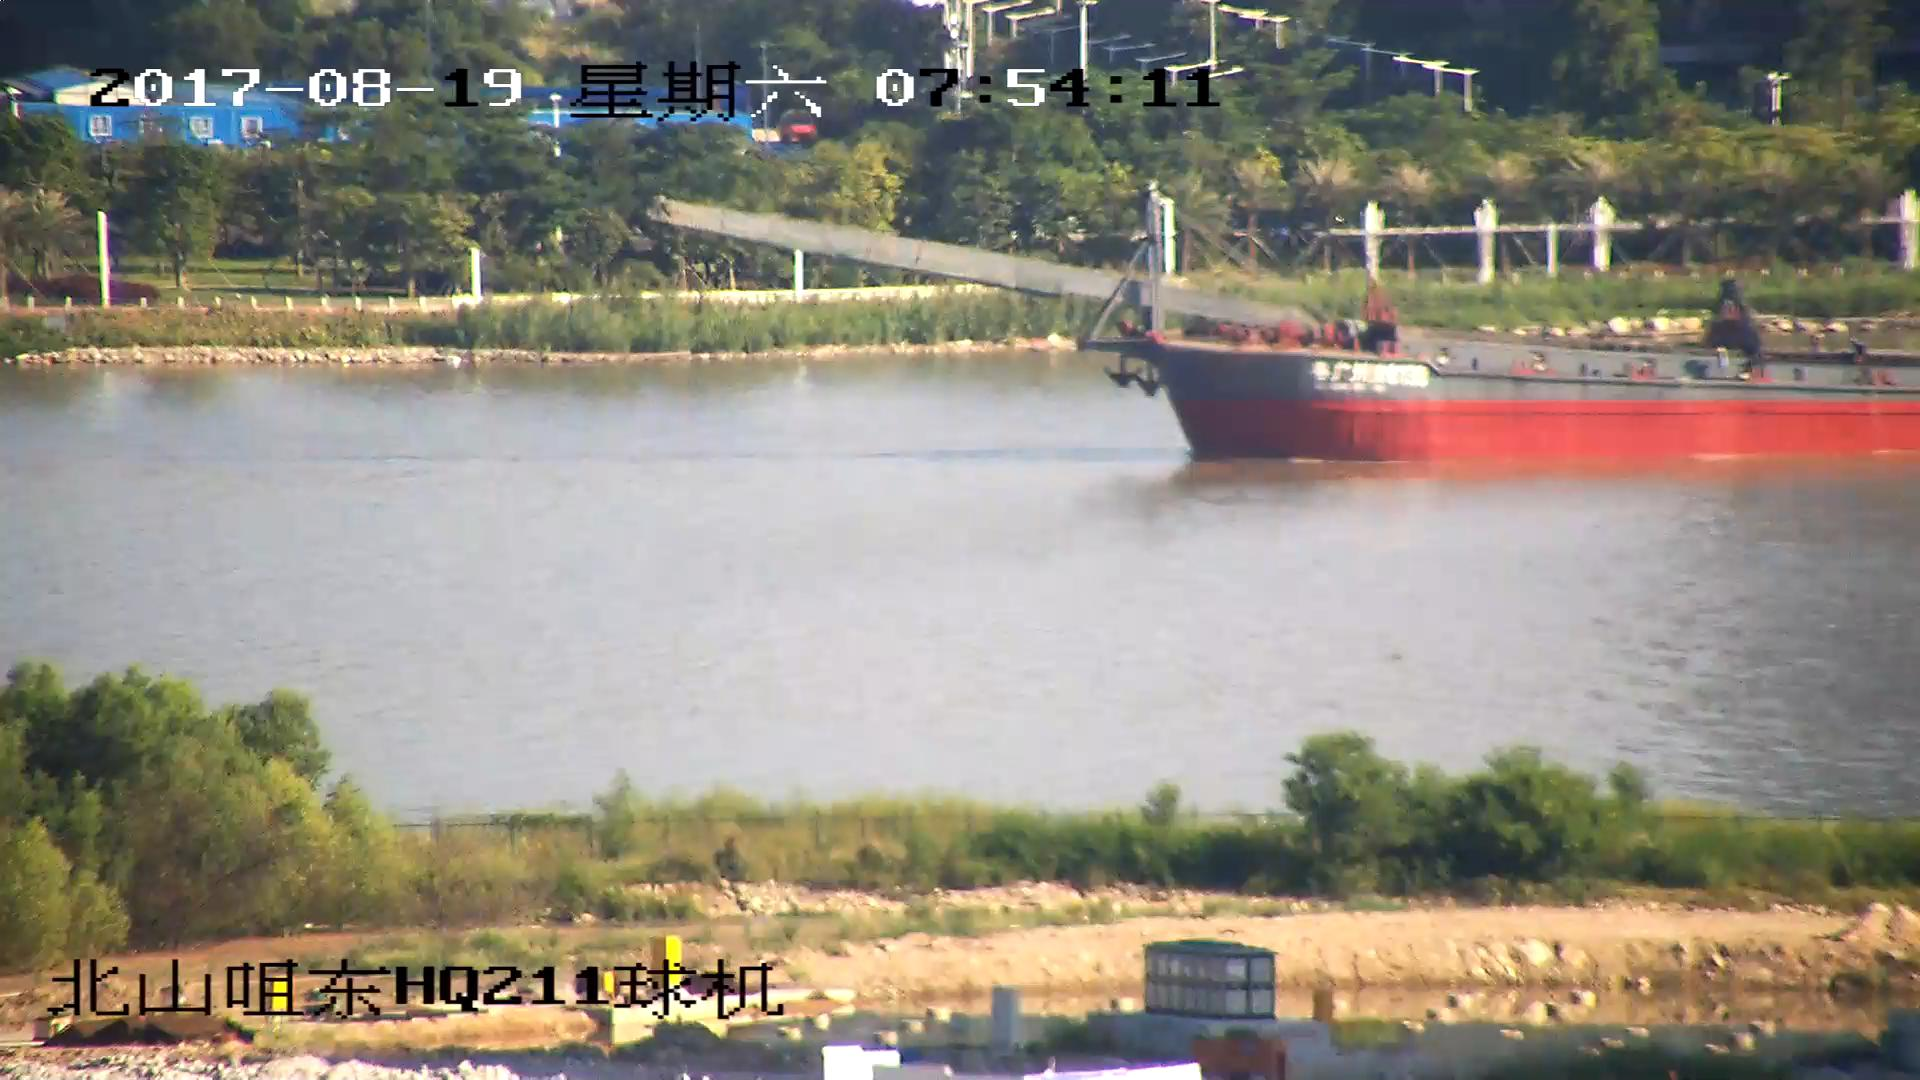bulk cargo carrier: (654, 200, 1920, 463)
